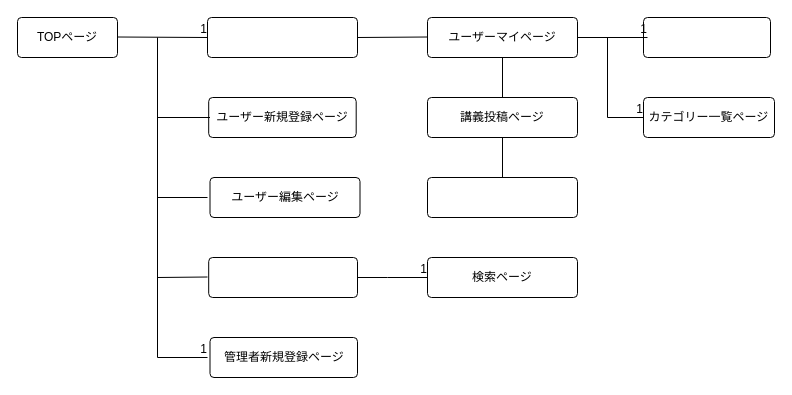
Some shapes in this 792 by 395 pixel diagram are drawn without their labels. Here are the shapes that lost their labels. From the top down, the centre of each, then its label:
At (x=282, y=37): "ユーザーログインページ".
At (x=706, y=37): "講義時間一覧ページ".
At (x=502, y=197): "カテゴリー投稿ページ".
At (x=283, y=277): "管理者ログインページ".
